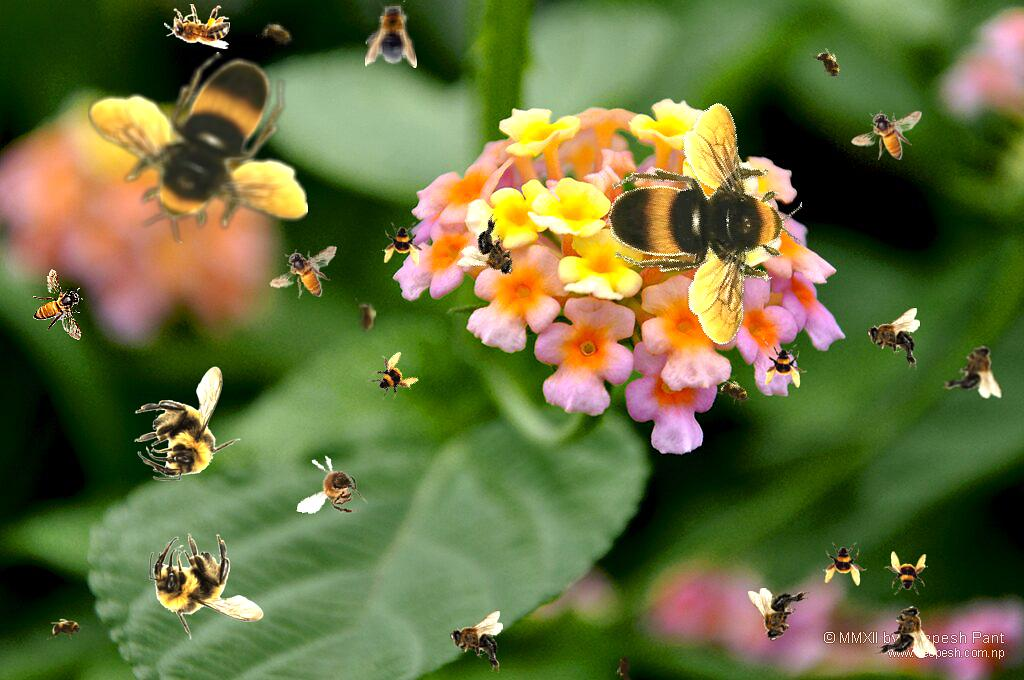Bee: (573, 89, 845, 372), (88, 52, 308, 243), (149, 533, 264, 640), (134, 366, 241, 481), (454, 211, 533, 293), (296, 451, 375, 523), (265, 244, 343, 303), (939, 338, 1010, 402), (361, 345, 423, 407), (32, 268, 84, 341), (851, 110, 922, 160), (365, 0, 417, 68), (450, 611, 503, 673), (748, 588, 810, 641), (867, 308, 920, 370), (875, 605, 937, 658), (164, 4, 230, 49), (823, 542, 867, 586), (763, 344, 807, 388), (382, 222, 426, 266), (884, 551, 928, 595), (809, 42, 849, 88), (712, 373, 758, 413), (255, 16, 301, 54), (355, 298, 377, 338), (47, 618, 87, 640), (615, 648, 637, 680)
